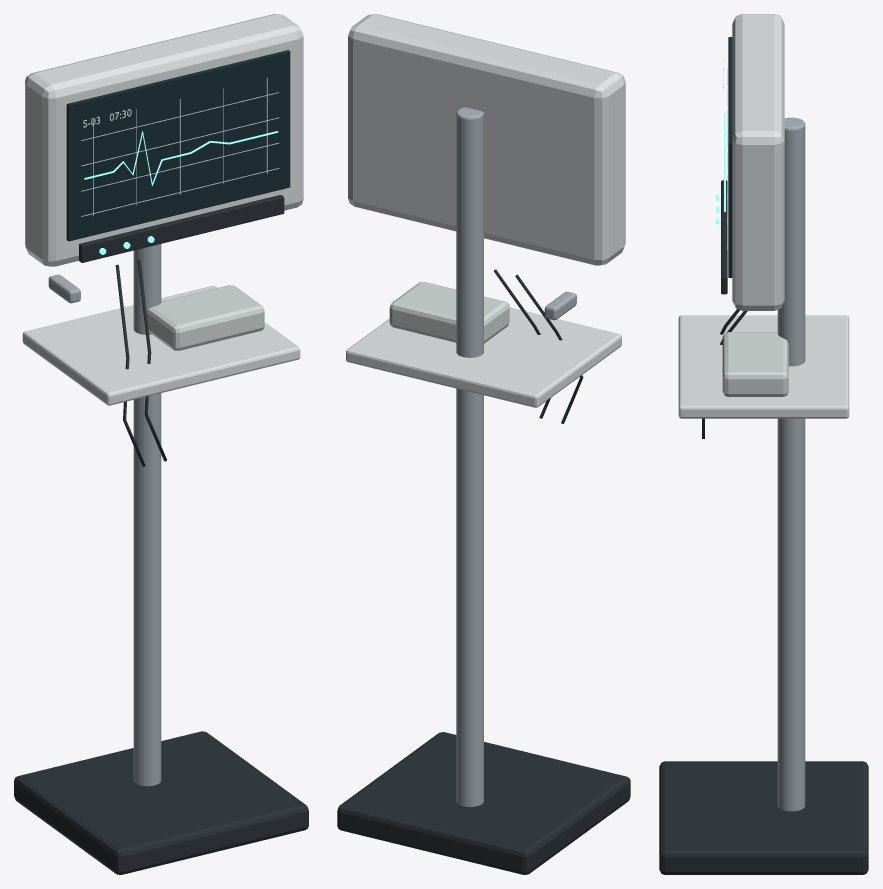
The model's file is TestMonitorStand.fbx.
3 renders of one model, left to right at view 1: azimuth 30°, elevation 25°; view 2: azimuth 150°, elevation 25°; view 3: azimuth 270°, elevation 25°, orthographic.
Parts seen in each view (by area): view 1: TestMonitorStand_Body; view 2: TestMonitorStand_Body; view 3: TestMonitorStand_Body.
Boxes of the visible parts, bbox=[...] form: TestMonitorStand_Body: bbox=[14, 14, 308, 874]; TestMonitorStand_Body: bbox=[337, 14, 630, 874]; TestMonitorStand_Body: bbox=[659, 14, 868, 874].
Bounding box in the file's own units: 0.54 × 1.52 × 0.38.
